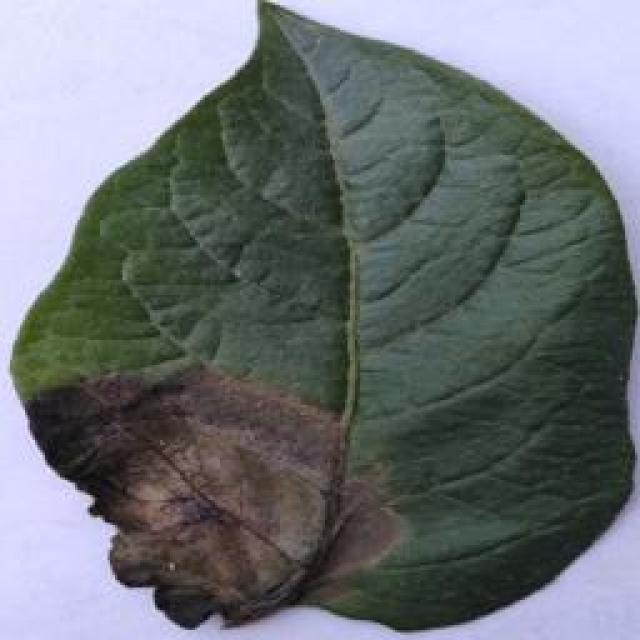Potato_Late_Blight: (4, 5, 636, 632), (0, 0, 188, 128)
